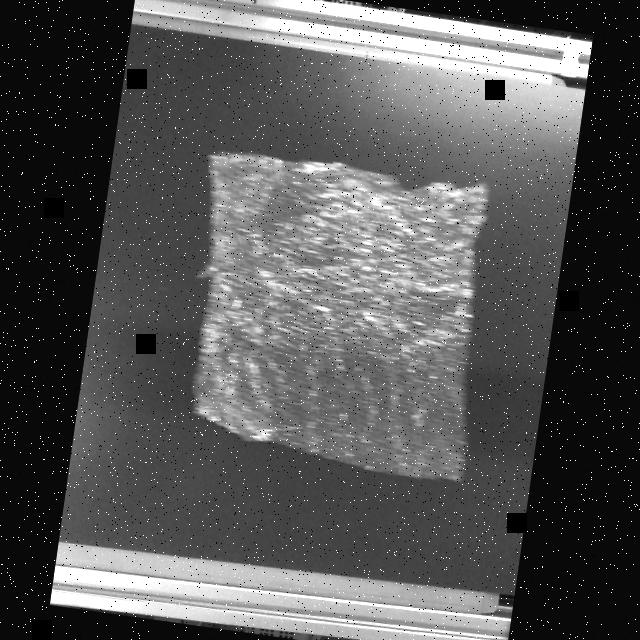scrap_plastic: (156, 141, 508, 486)
